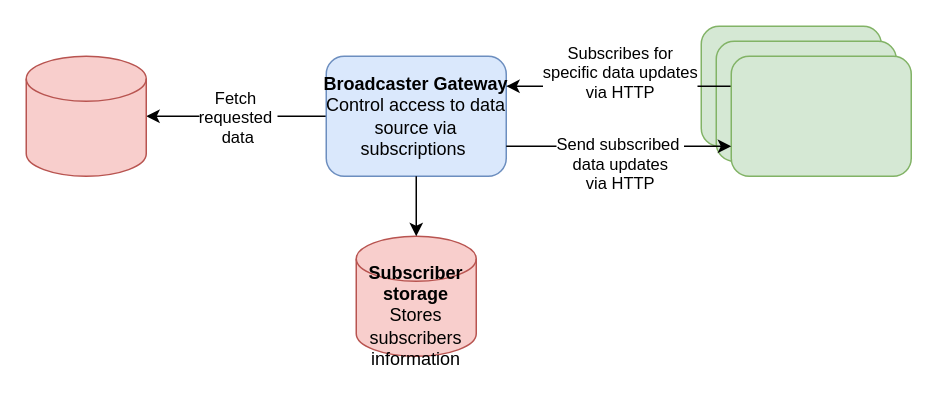
This 938x395 diagram has some shape labels left out. Each missing label, with the centre of its shape:
Clients HTTP client to receive updates from data source: point 820,115
Data Source: point 85,115
